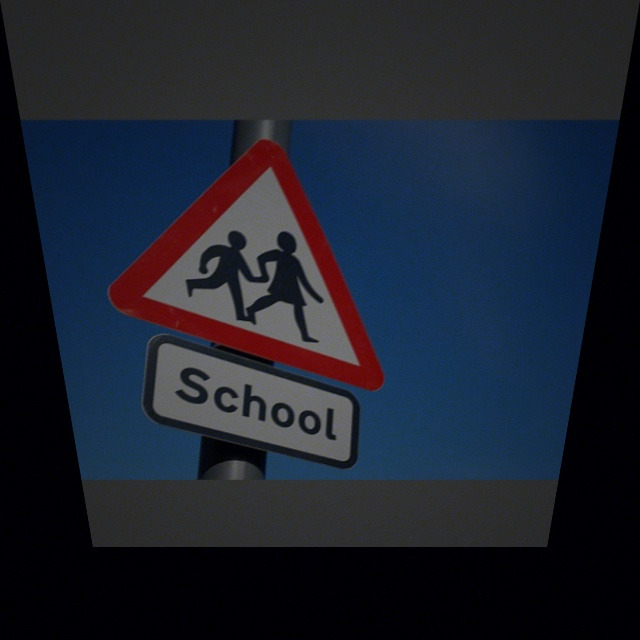School_Ahead: (92, 126, 410, 380)
